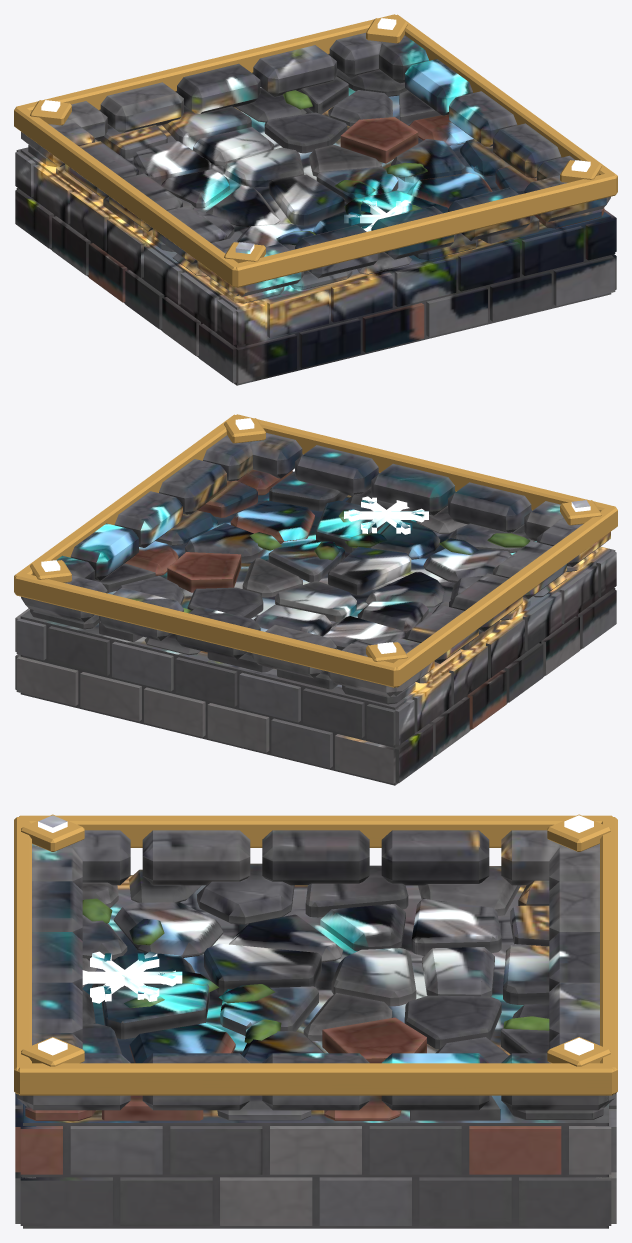
The model's file is ice_lance_plate.glb.
3 renders of one model, top to bottom at view 1: azimuth 30°, elevation 25°; view 2: azimuth 150°, elevation 25°; view 3: azimuth 270°, elevation 25°, orthographic. The views are drawn at different scales.
Parts seen in each view (by area): view 1: ice_lance_plate; view 2: ice_lance_plate; view 3: ice_lance_plate.
Part boxes in pixels (<box>): ice_lance_plate: <box>14,14,617,385</box>; ice_lance_plate: <box>14,414,617,785</box>; ice_lance_plate: <box>14,814,617,1228</box>.
Size of the model in its own units: 2.02 by 0.635 by 2.02.
Materials: 2 (1 with a texture image).
